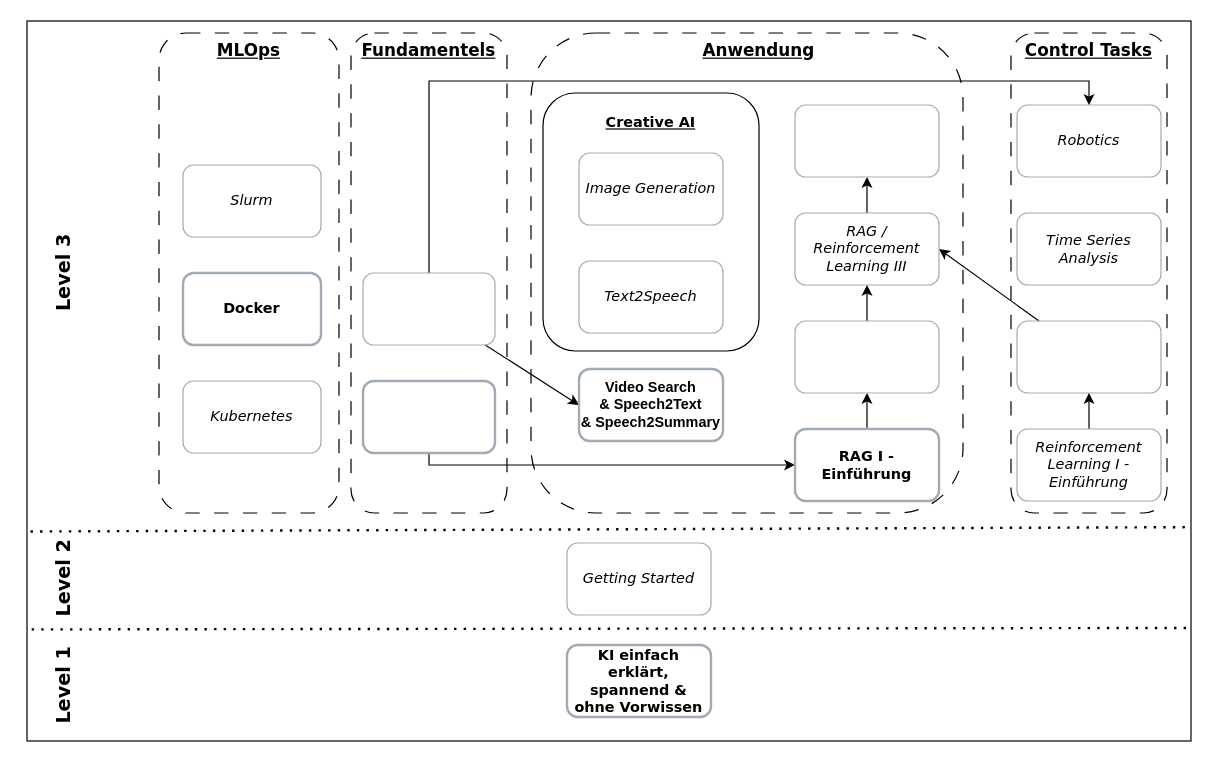
The diagram is 1214 pixels wide and 766 high, and some of its shapes have lost their labels. The shapes that lost their labels are listed below. From the top down, each one's box as (x1, y1, x2, y2) in pixels, then its label:
(794, 104, 939, 177): AI Agents
(362, 272, 495, 345): Computer Vision
(794, 320, 939, 393): RAG II - Datenaufbereitung
(1016, 320, 1161, 393): Reinforcement Learning II - Implementierung
(361, 379, 496, 454): Embeddings
